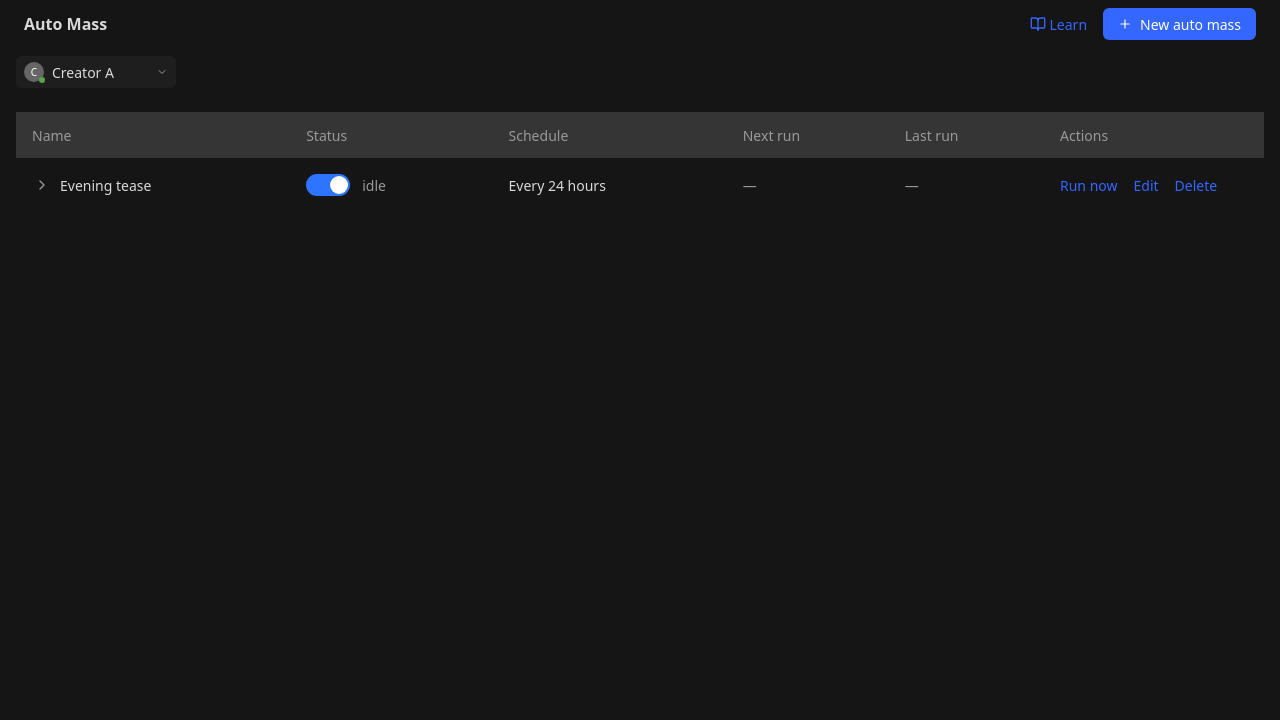
Test case: Auto Mass (ReadyMadePanel only=mass_premade) › the header's New auto mass opens the auto mass message editor dialog
Expected: the text "Evening tease" is shown, [60,174,151,196]
Click the button "New auto mass". click: (1180, 24)
box: [1103,8,1256,40]
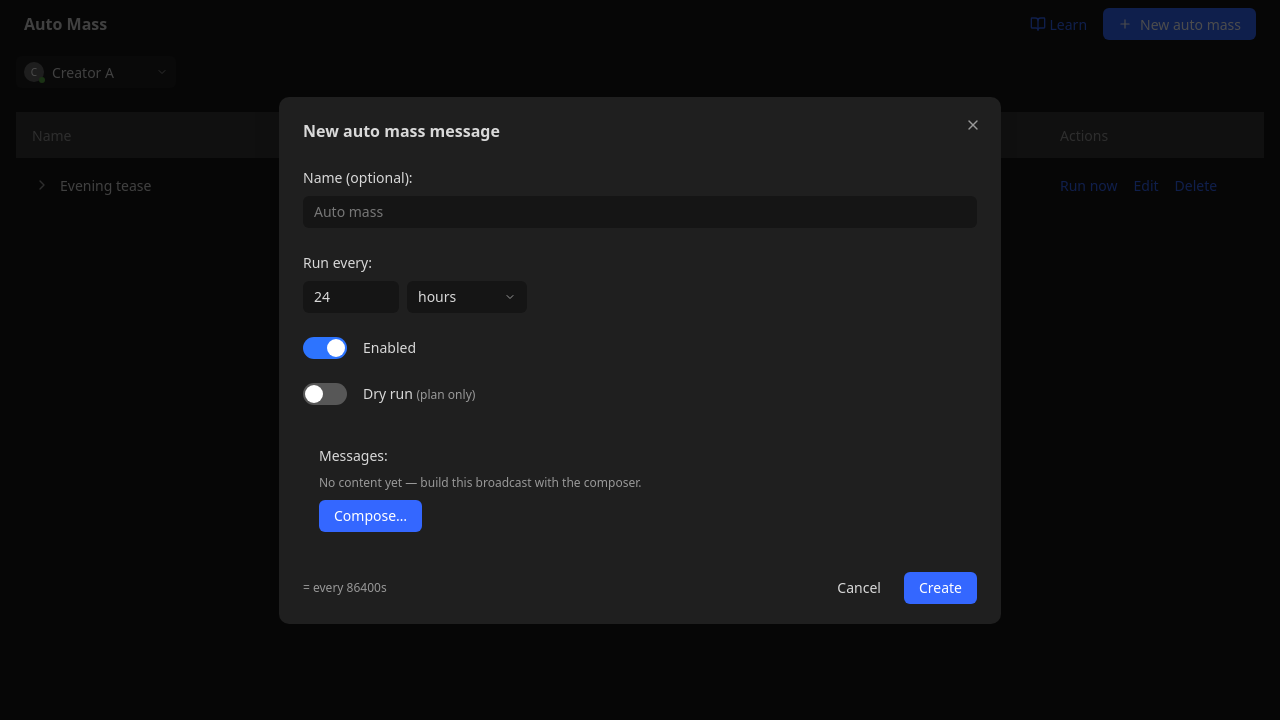
Expected: the text "Messages:" is shown, [319,444,388,466]
Expected: the dropdown named "Interval unit" reads "hours", [407,280,527,312]
